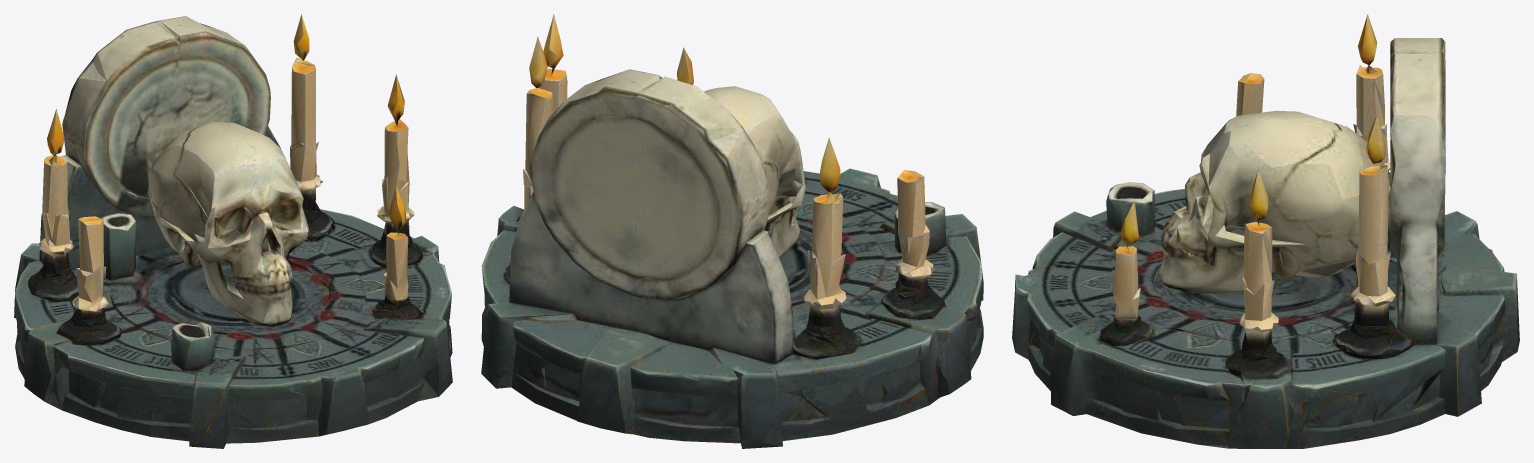
File: prop_altar.glb
3 renders of one model, left to right at view 1: azimuth 30°, elevation 25°; view 2: azimuth 150°, elevation 25°; view 3: azimuth 270°, elevation 25°, orthographic. The views are drawn at different scales.
Bounding box in the file's own units: 1.9 × 1.23 × 1.9.
Materials: 1 (1 with a texture image).
